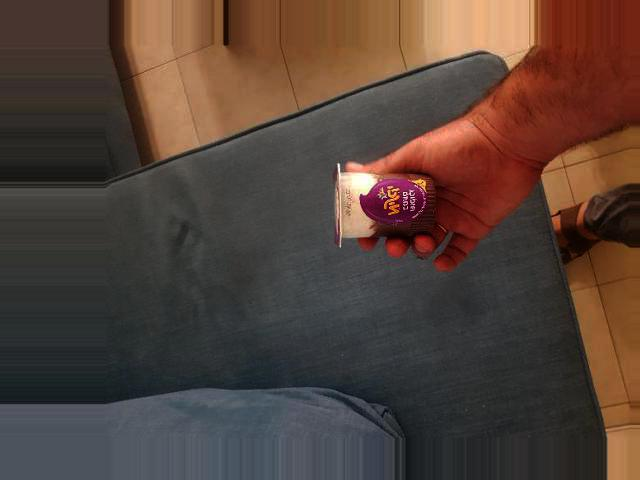milky: (298, 260, 380, 397)
